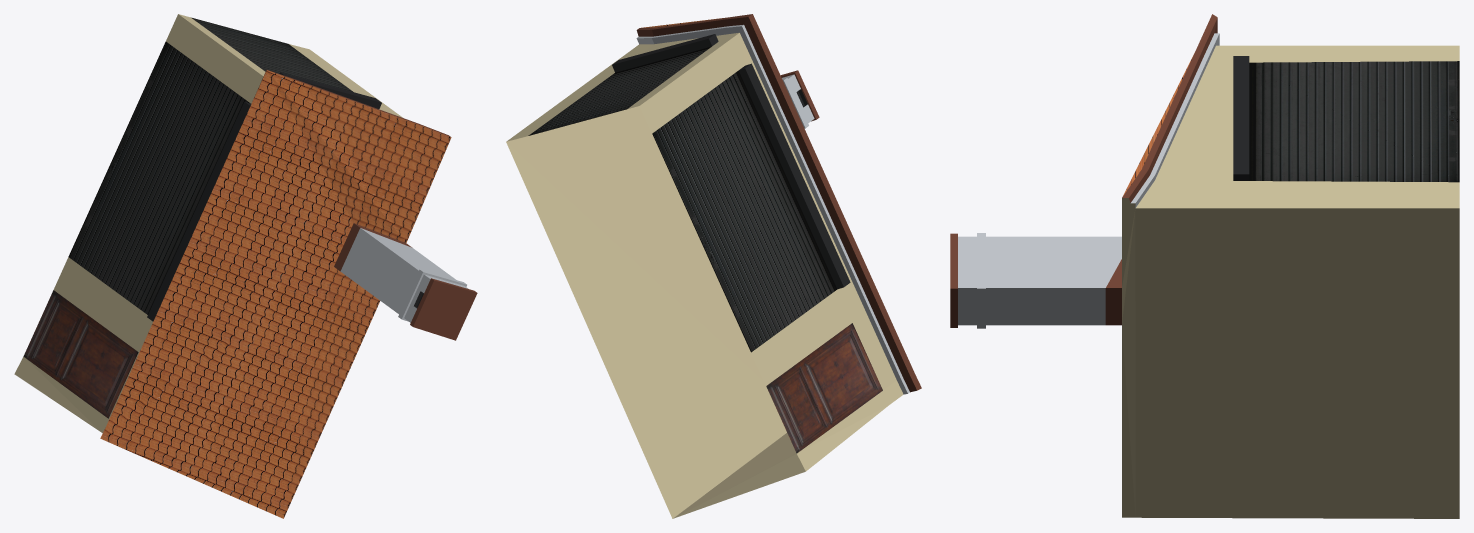
Rendered from Ryytli_24_3.obj.
3 renders of one model, left to right at view 1: azimuth 30°, elevation 25°; view 2: azimuth 150°, elevation 25°; view 3: azimuth 270°, elevation 25°, orthographic. The views are drawn at different scales.
Visible parts, largest first — view 1: Ryytli_24_3; view 2: Ryytli_24_3; view 3: Ryytli_24_3.
Part boxes in pixels (x1,y1,x2,y2): Ryytli_24_3: (14,14,477,518); Ryytli_24_3: (506,14,921,518); Ryytli_24_3: (950,14,1459,518).
Bounding box in the file's own units: 5.35 × 6.81 × 6.07.
